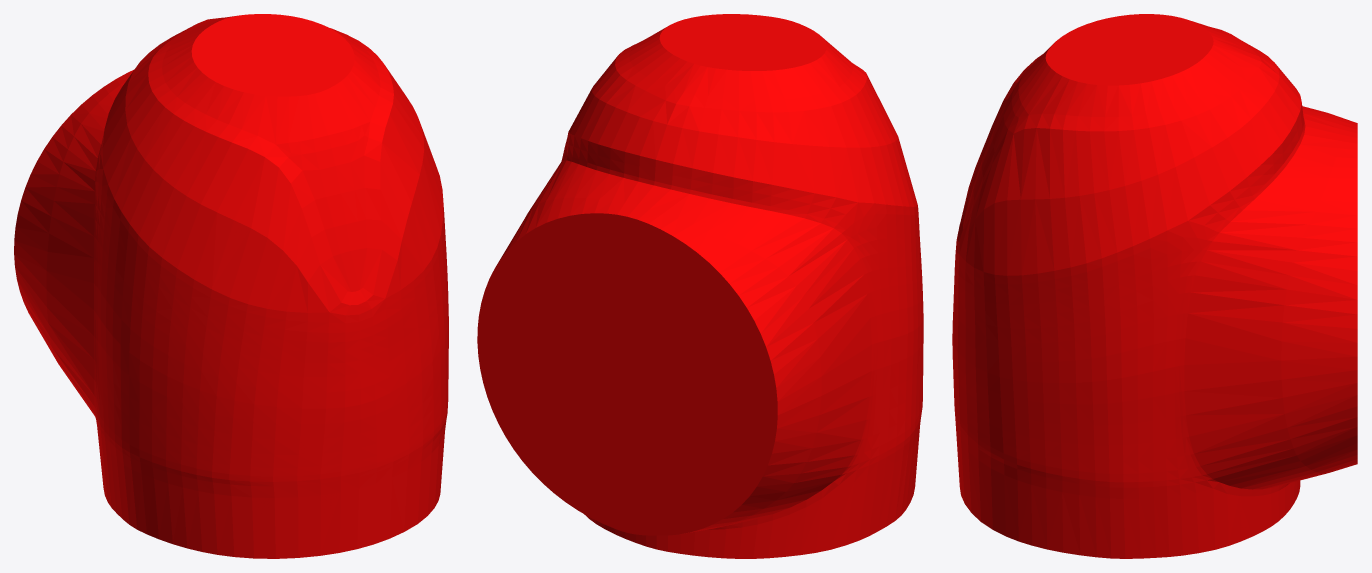
3 views of the same model, side by side, from view 1: azimuth 30°, elevation 25°; view 2: azimuth 150°, elevation 25°; view 3: azimuth 270°, elevation 25° (orthographic). The views are drawn at different scales.
Parts seen in each view (by area): view 1: MF1509_1_0; view 2: MF1509_1_0; view 3: MF1509_1_0.
Boxes of the visible parts, x1,y1,x2,y2 form: MF1509_1_0: (14, 14, 448, 558); MF1509_1_0: (477, 14, 923, 558); MF1509_1_0: (952, 14, 1357, 558).
Size of the model in its own units: 163 by 181 by 219.
